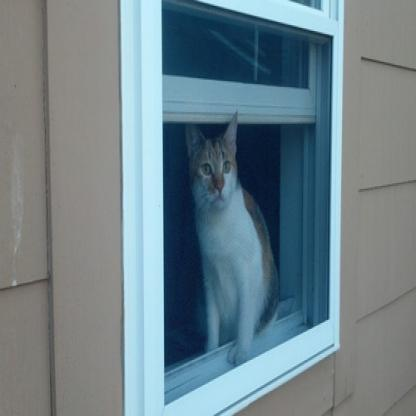Target: (181, 117, 280, 363)
